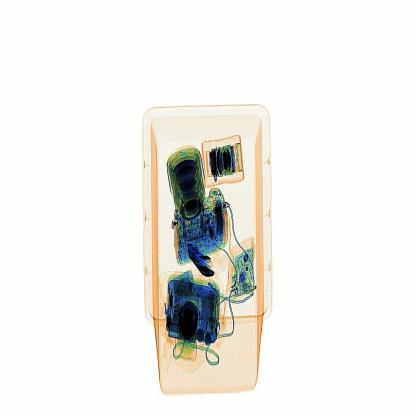pliers: (187, 236, 223, 284)
